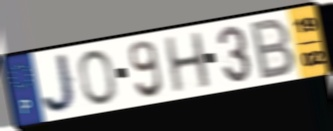3: (216, 24, 253, 85)
9: (128, 39, 165, 100)
B: (249, 15, 298, 82)
H: (162, 30, 214, 95)
J: (40, 51, 80, 115)
O: (77, 48, 119, 107)
